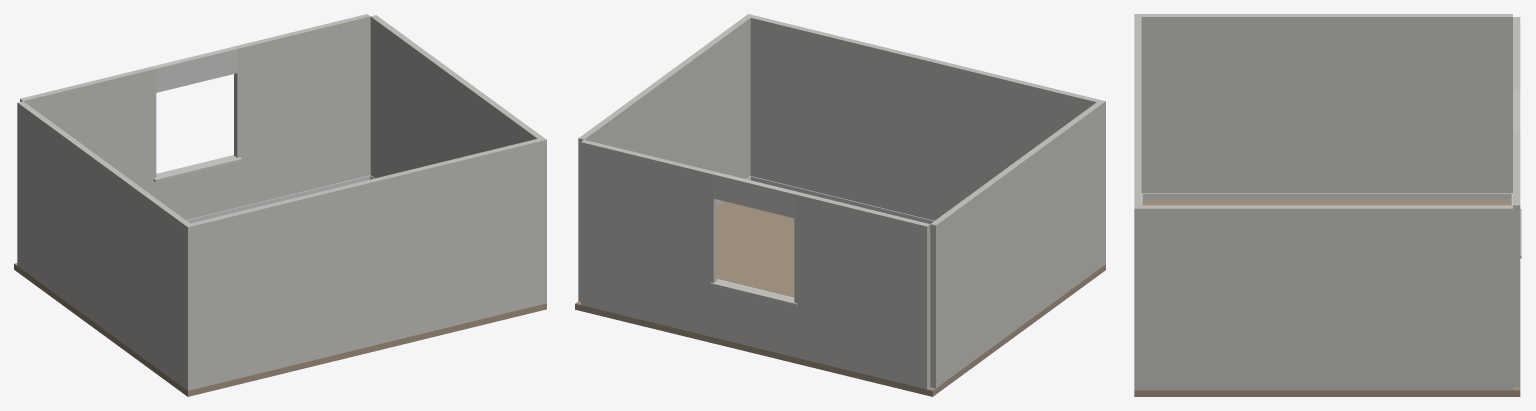
The model's file is showroom_30m2.glb.
3 views of the same model, side by side, from view 1: azimuth 30°, elevation 25°; view 2: azimuth 150°, elevation 25°; view 3: azimuth 270°, elevation 25° (orthographic). The views are drawn at different scales.
Visible parts, largest first — view 1: world; view 2: world; view 3: world.
Part boxes in pixels (x1=…): world: x1=14, y1=14, x2=546, y2=396; world: x1=575, y1=14, x2=1105, y2=396; world: x1=1134, y1=14, x2=1521, y2=396.
Size of the model in its own units: 6.2 by 2.8 by 5.22.
